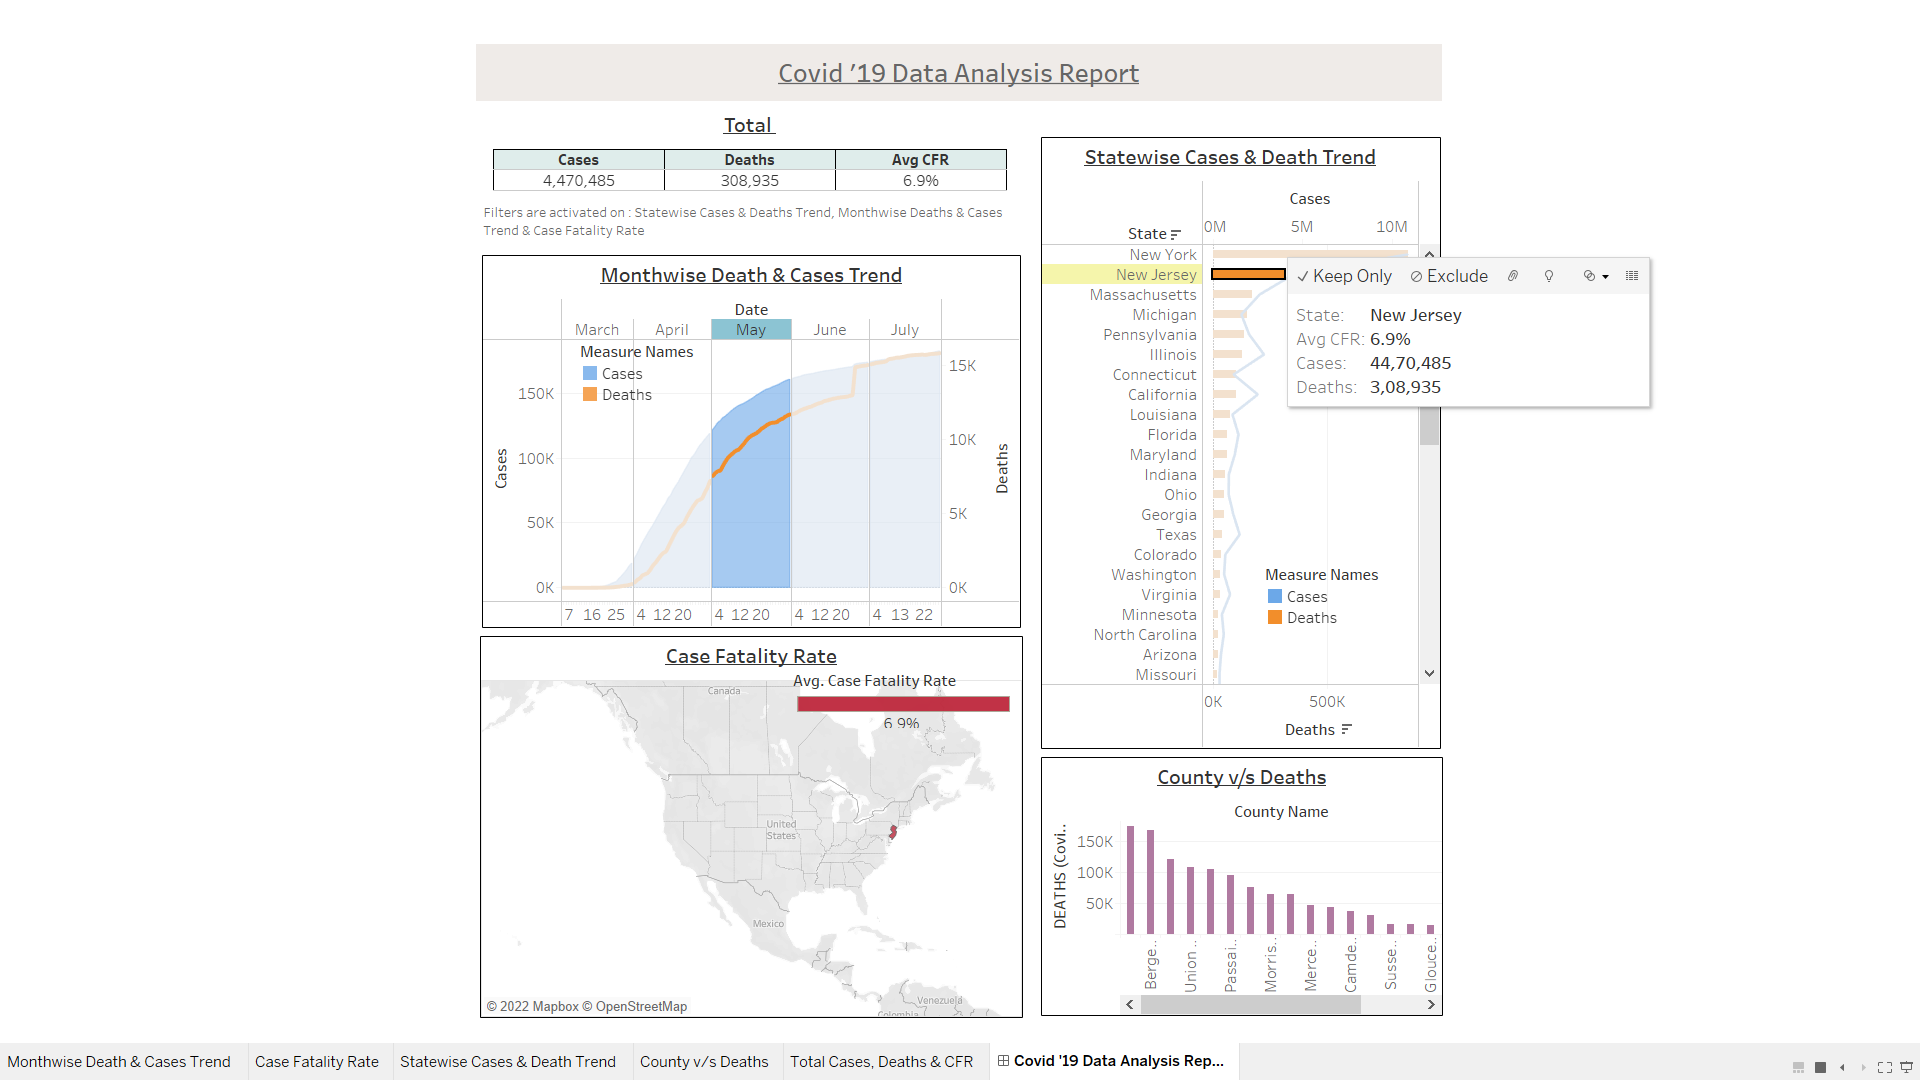

This screenshot's page, from the dashboard's own definition file:
{"tool":"tableau","page":{"name":"Covid '19 Data Analysis Report","canvas":[1000,1000],"ordinal":0},"visuals":[{"type":"text","box":[16,23,966,57]},{"type":"worksheet","title":"Total Cases, Deaths & CFR","mark":"Automatic","box":[33,85,558,86]},{"type":"worksheet","title":"Statewise Cases & Death Trend","mark":"Automatic","rows":["STATE"],"cols":["DEATHS","CASES"],"box":[581,116,400,612]},{"type":"text","box":[20,164,540,72]},{"type":"worksheet","title":"Monthwise Death & Cases Trend","mark":"Automatic","rows":["CASES","DEATHS"],"cols":["DATE"],"box":[22,234,539,373]},{"type":"legend","title":"Monthwise Death & Cases Trend","param":"[federated.0ui7ffg10hddcb1d2uvlm0c506nb].[:Measure Names]","box":[120,320,150,67]},{"type":"legend","title":"Statewise Cases & Death Trend","param":"[federated.0ui7ffg10hddcb1d2uvlm0c506nb].[:Measure Names]","box":[805,543,124,72]},{"type":"worksheet","title":"Case Fatality Rate","mark":"Automatic","box":[20,615,543,382]},{"type":"legend","title":"Case Fatality Rate","param":"[federated.0ui7ffg10hddcb1d2uvlm0c506nb].[avg:Calculation_444730521132519424:qk]","box":[333,649,221,58]},{"type":"worksheet","title":"County v/s Deaths","mark":"Automatic","rows":["DEATHS (Covid_County_Level_Data.csv)"],"cols":["COUNTY_NAME"],"box":[581,736,402,259]}]}

Visuals, with their boxes on the page's 1000x1000 design canvas (x1, y1, x2, y2). These are canvas units, not pixel positions in the 1920x1080 screenshot, which may show the page scaled, cropped or inside an application window:
text: bbox(16, 23, 982, 80)
"Total Cases, Deaths & CFR" worksheet: bbox(33, 85, 591, 171)
"Statewise Cases & Death Trend" worksheet: bbox(581, 116, 981, 728)
text: bbox(20, 164, 560, 236)
"Monthwise Death & Cases Trend" worksheet: bbox(22, 234, 561, 607)
"Monthwise Death & Cases Trend" legend: bbox(120, 320, 270, 387)
"Statewise Cases & Death Trend" legend: bbox(805, 543, 929, 615)
"Case Fatality Rate" worksheet: bbox(20, 615, 563, 997)
"Case Fatality Rate" legend: bbox(333, 649, 554, 707)
"County v/s Deaths" worksheet: bbox(581, 736, 983, 995)
